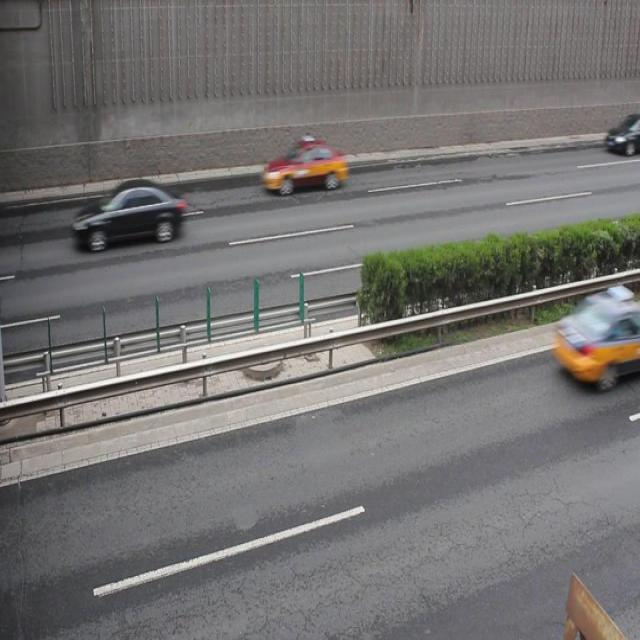car: (72, 177, 188, 251), (261, 138, 347, 193), (602, 114, 640, 156)
